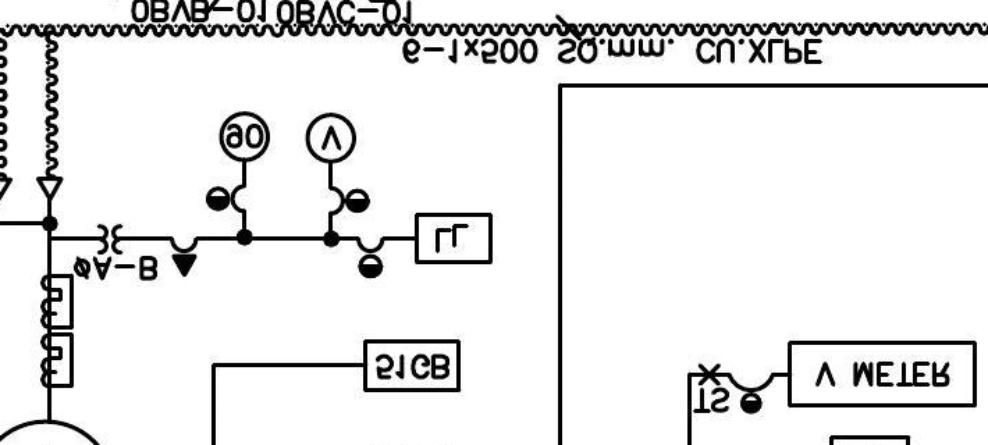LL: (413, 213, 493, 265)
v_m: (304, 111, 357, 165)
v_m_digital: (786, 339, 978, 409)
